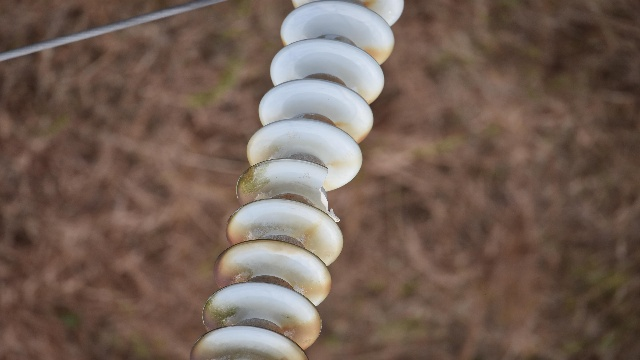broken_local: (312, 164, 345, 223)
insulator_unspecified: (190, 0, 403, 359)
